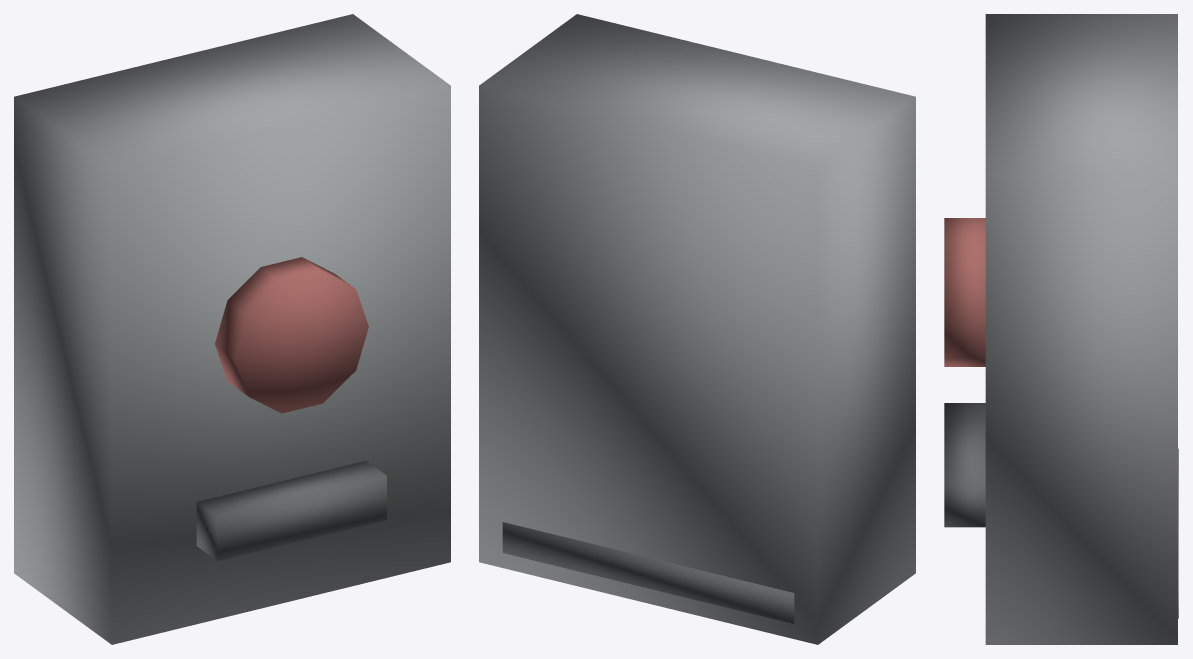
Rendered from push_button_station__reinforced.glb.
3 renders of one model, left to right at view 1: azimuth 30°, elevation 25°; view 2: azimuth 150°, elevation 25°; view 3: azimuth 270°, elevation 25°, orthographic.
Visible parts, largest first — view 1: world; view 2: world; view 3: world.
Boxes of the visible parts, box(x1,y1,x2,y2) form: world: box(14, 14, 450, 644); world: box(479, 14, 915, 644); world: box(944, 14, 1178, 644).
Bounding box in the file's own units: 0.2884 × 0.3876 × 0.1756.
